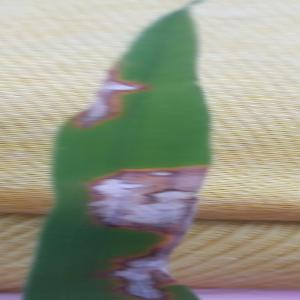1 RiceBlast: (77, 156, 213, 237), (58, 70, 156, 136), (107, 246, 186, 300)
